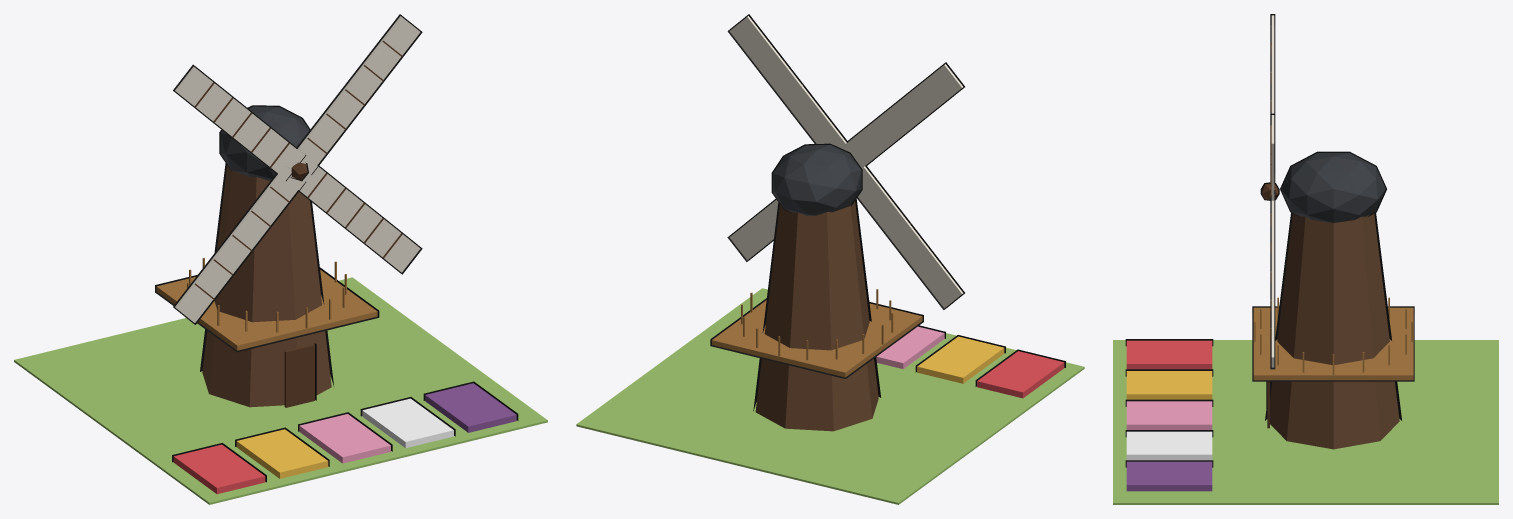
Rendered from Sanayi_yel_degirmeni_1.fbx.
The picture shows the model from 3 angles, left to right: view 1: azimuth 30°, elevation 25°; view 2: azimuth 150°, elevation 25°; view 3: azimuth 270°, elevation 25°; orthographic projection. The views are drawn at different scales.
Visible parts, largest first — view 1: Sanayi_yel_degirmeni_1; view 2: Sanayi_yel_degirmeni_1; view 3: Sanayi_yel_degirmeni_1.
Boxes of the visible parts, x1=… form: Sanayi_yel_degirmeni_1: x1=14, y1=14, x2=547, y2=504; Sanayi_yel_degirmeni_1: x1=576, y1=14, x2=1084, y2=504; Sanayi_yel_degirmeni_1: x1=1113, y1=14, x2=1498, y2=504.
Bounding box in the file's own units: 14 × 14.4 × 14.
